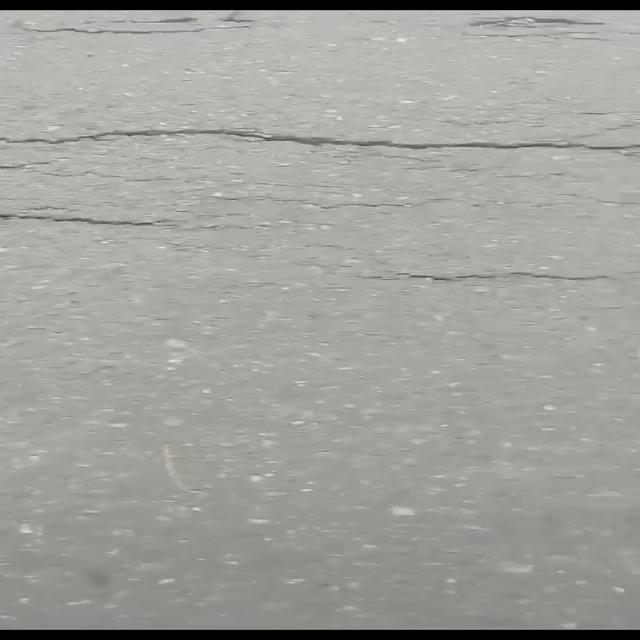Melintang: (0, 112, 640, 160), (0, 205, 205, 247), (357, 259, 617, 289)
